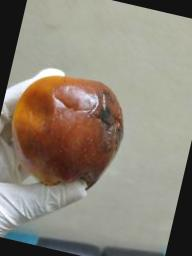Apple Rotten: (2, 66, 136, 204)
